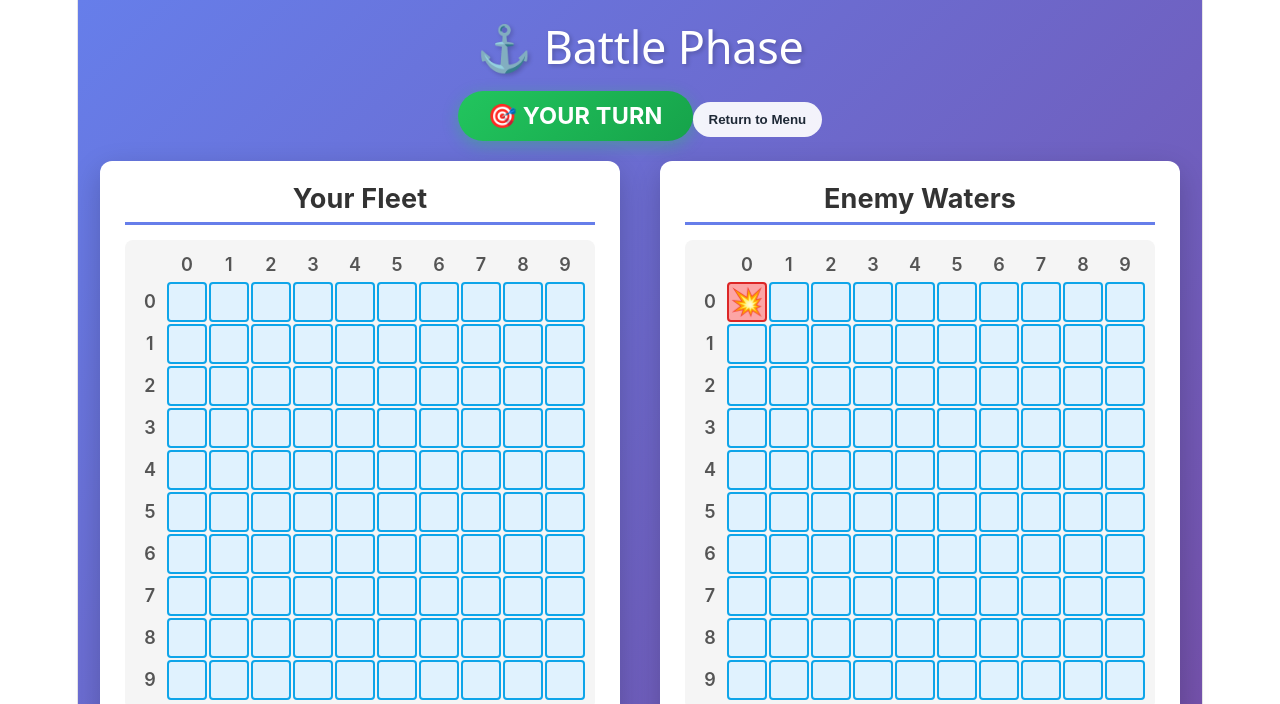
BattlePhase Component › blocks firing at a previously targeted cell
Click the text with class "cell" showing "💥" at (747, 302), box [727,282,767,322]
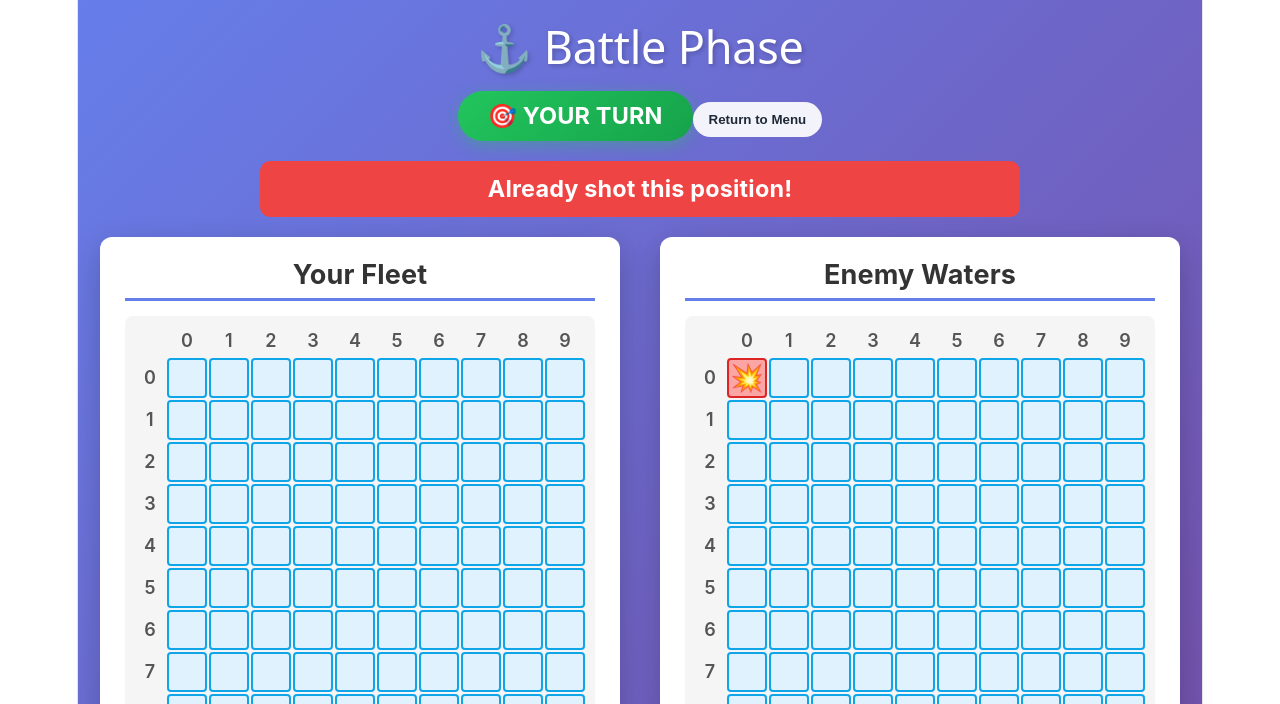
Expected: the text "Already shot this position!" is shown, [260,161,1020,217]
